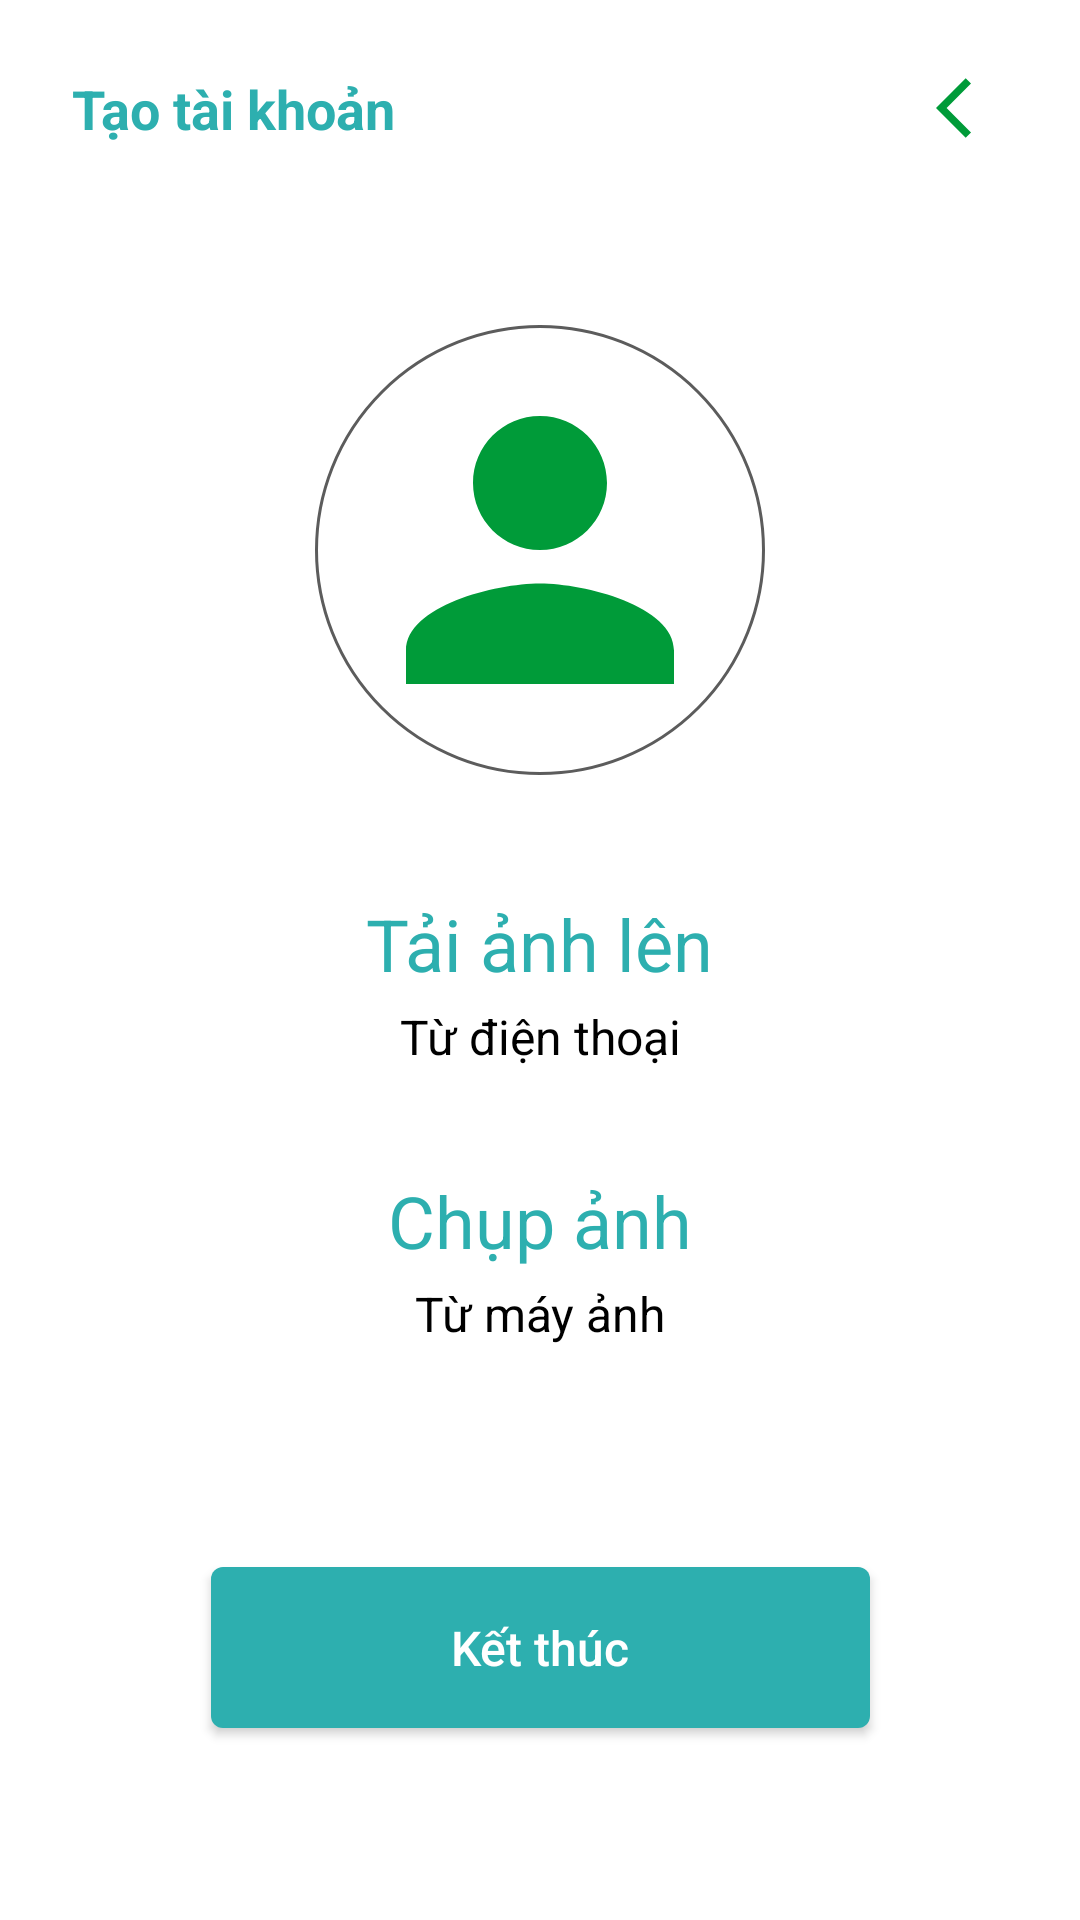

Named icons in this screenshot (1080*1920) and their bounding boxes, (x1, y1, x2, y2):
arrow back: (936, 78, 971, 138)
